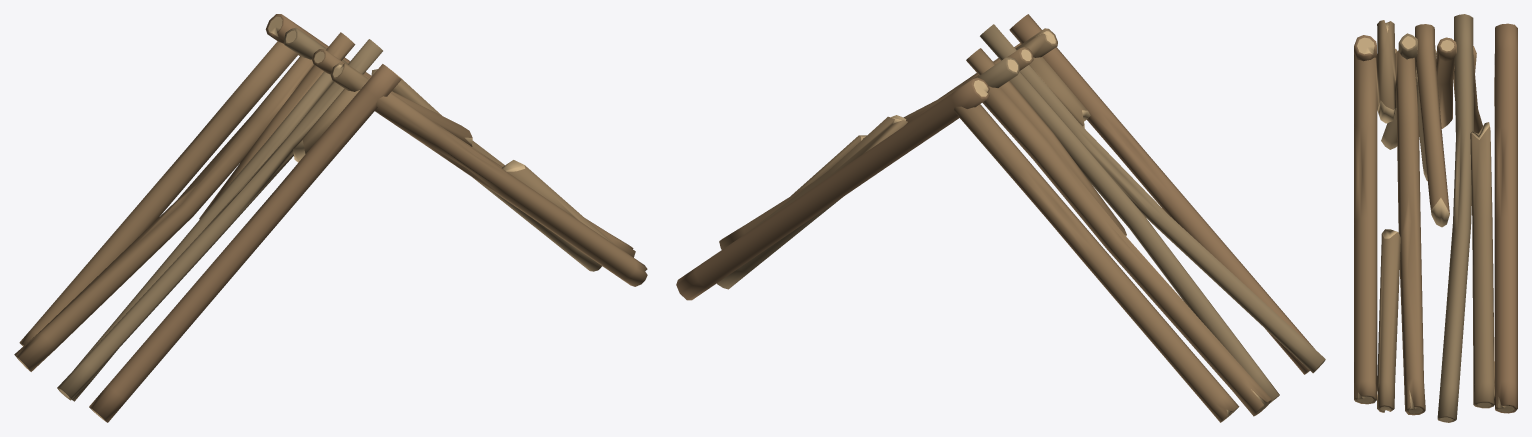
Rendered from rpgpp_av_roof_01_9x4x3_a.gltf.
3 views of the same model, side by side, from view 1: azimuth 30°, elevation 25°; view 2: azimuth 150°, elevation 25°; view 3: azimuth 270°, elevation 25° (orthographic). The views are drawn at different scales.
Parts seen in each view (by area): view 1: rpgpp_av_roof_01_9x4x3_a; view 2: rpgpp_av_roof_01_9x4x3_a; view 3: rpgpp_av_roof_01_9x4x3_a.
Part boxes in pixels (left/top/right/bottom): rpgpp_av_roof_01_9x4x3_a: left=14, top=14, right=647, bottom=422; rpgpp_av_roof_01_9x4x3_a: left=676, top=14, right=1325, bottom=422; rpgpp_av_roof_01_9x4x3_a: left=1354, top=14, right=1517, bottom=422.
Bounding box in the file's own units: 0.1139 × 0.0569 × 0.03.
1 material, 1 textured.
